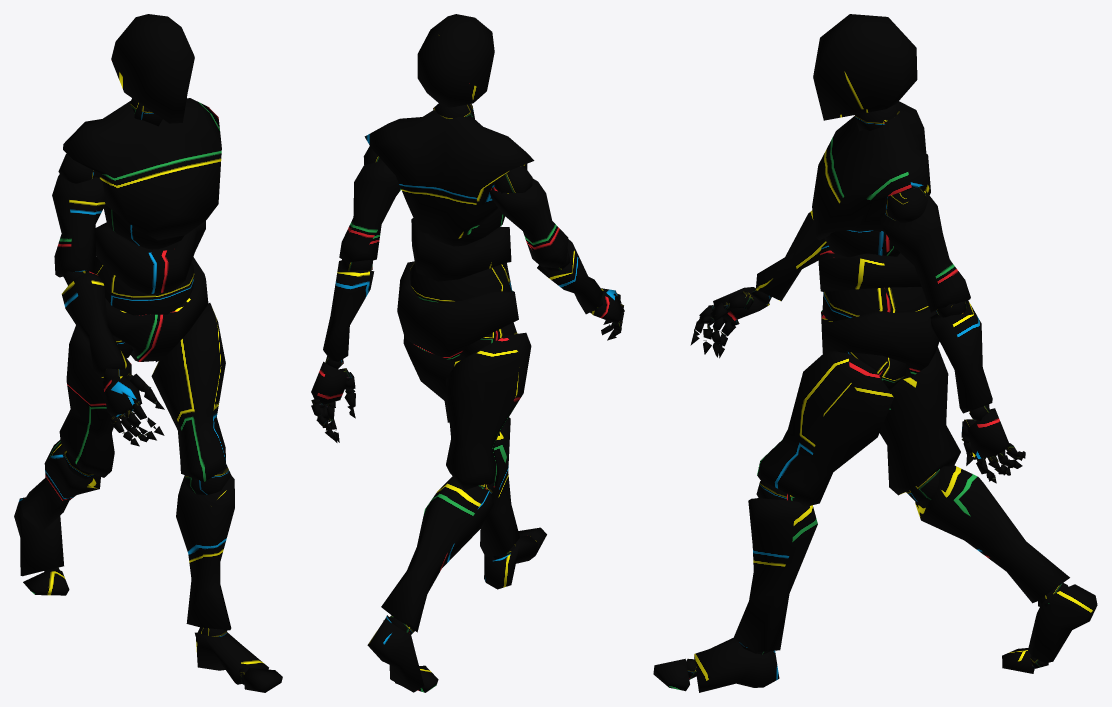
Rendered from y-bot-origin_000022.obj.
The picture shows the model from 3 angles, left to right: view 1: azimuth 30°, elevation 25°; view 2: azimuth 150°, elevation 25°; view 3: azimuth 270°, elevation 25°; orthographic projection. The views are drawn at different scales.
Parts seen in each view (by area): view 1: Alpha_Surface_Alpha_SurfaceMesh, Alpha_Joints_Alpha_JointsMesh; view 2: Alpha_Surface_Alpha_SurfaceMesh, Alpha_Joints_Alpha_JointsMesh; view 3: Alpha_Surface_Alpha_SurfaceMesh, Alpha_Joints_Alpha_JointsMesh.
Boxes of the visible parts, box(x1,y1,x2,y2) form: Alpha_Surface_Alpha_SurfaceMesh: box(14, 14, 282, 692); Alpha_Joints_Alpha_JointsMesh: box(44, 98, 248, 684); Alpha_Surface_Alpha_SurfaceMesh: box(311, 14, 624, 692); Alpha_Joints_Alpha_JointsMesh: box(311, 103, 623, 685); Alpha_Surface_Alpha_SurfaceMesh: box(653, 14, 1097, 692); Alpha_Joints_Alpha_JointsMesh: box(686, 104, 1068, 679).
Size of the model in its own units: 0.5742 by 1.75 by 1.06.
